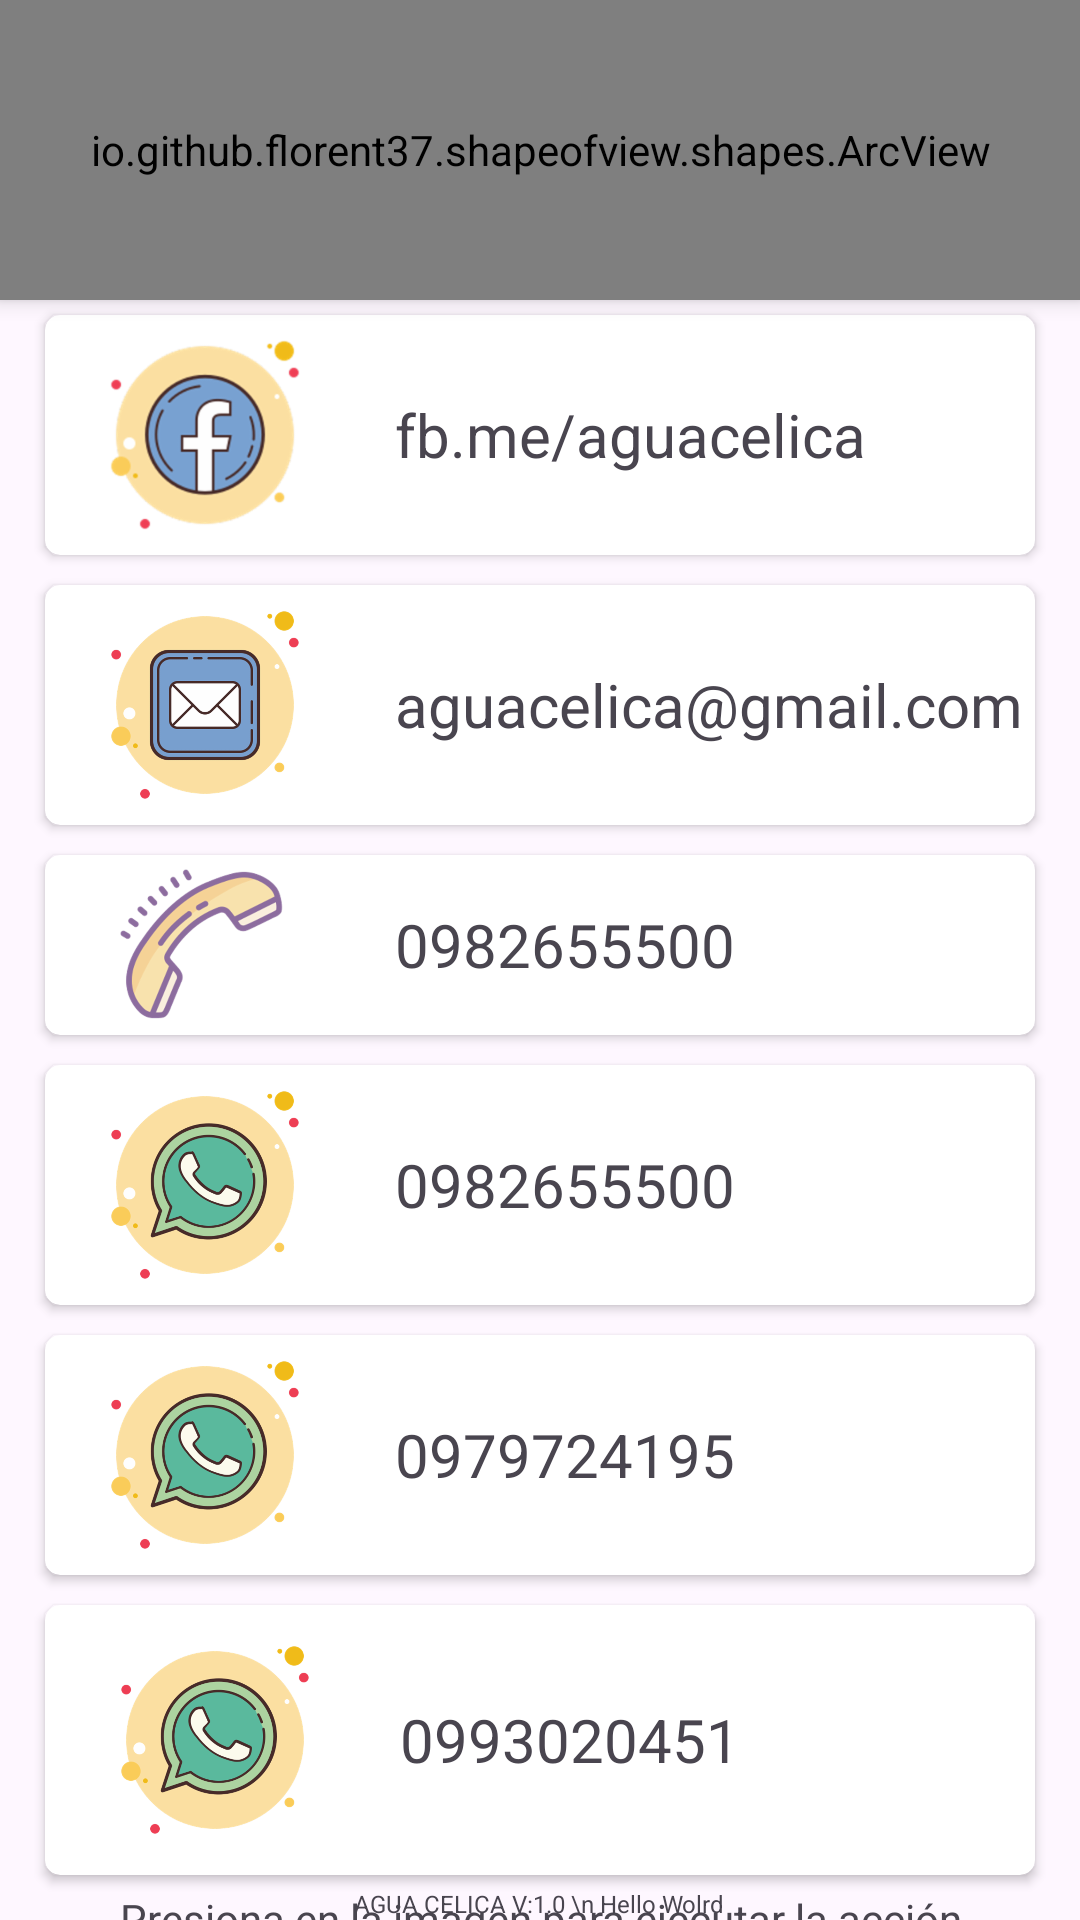

Point at icon controls on the screen. Image size 1080 × 1920, points as (x=x, y=y).
call: (x=205, y=945)
